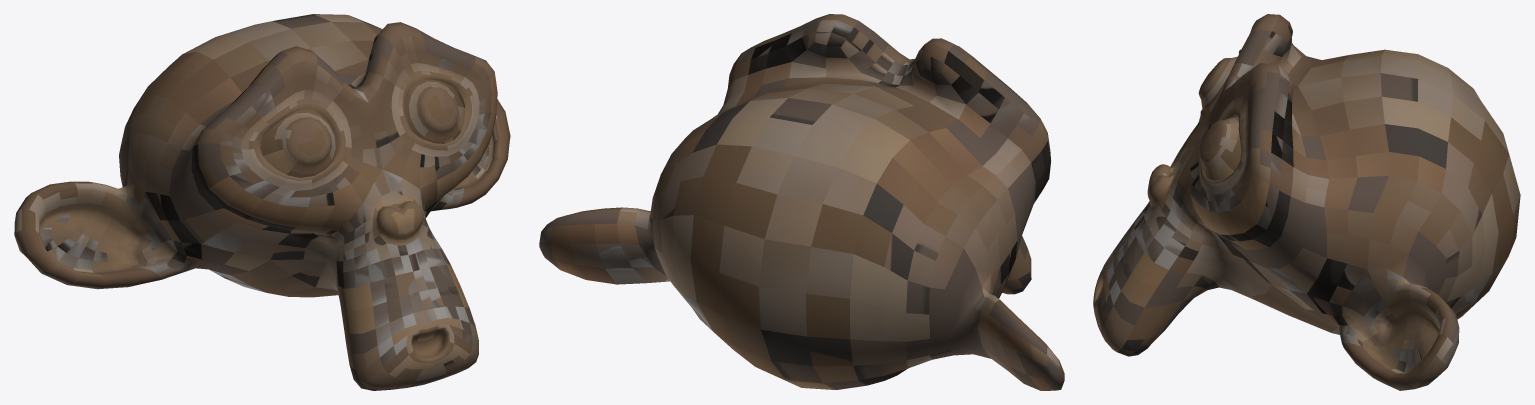
The picture shows the model from 3 angles, left to right: view 1: azimuth 30°, elevation 25°; view 2: azimuth 150°, elevation 25°; view 3: azimuth 270°, elevation 25°; orthographic projection. The views are drawn at different scales.
Visible parts, largest first — view 1: Suzanne; view 2: Suzanne; view 3: Suzanne.
Part boxes in pixels (left/top/right/bottom): Suzanne: left=14, top=14, right=510, bottom=390; Suzanne: left=539, top=14, right=1064, bottom=390; Suzanne: left=1093, top=14, right=1520, bottom=390.
Bounding box in the file's own units: 3.42 × 1.95 × 2.57.
Materials: 1 (1 with a texture image).
